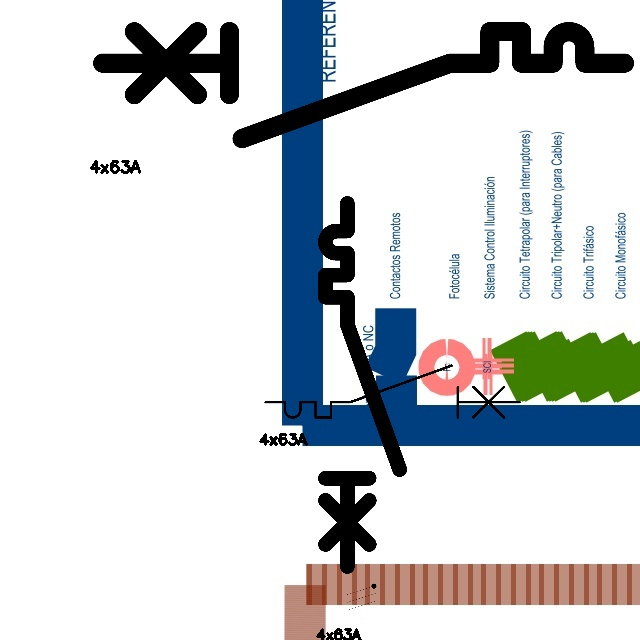interruptor_termomagnetico: (89, 18, 638, 152), (316, 194, 409, 575), (259, 359, 526, 424)
